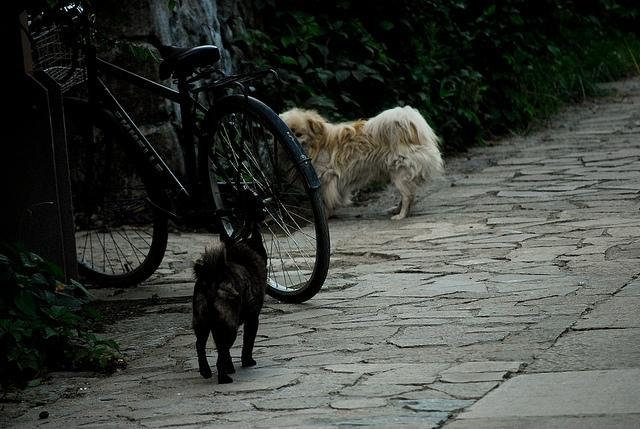bicycle: (2, 2, 330, 306)
